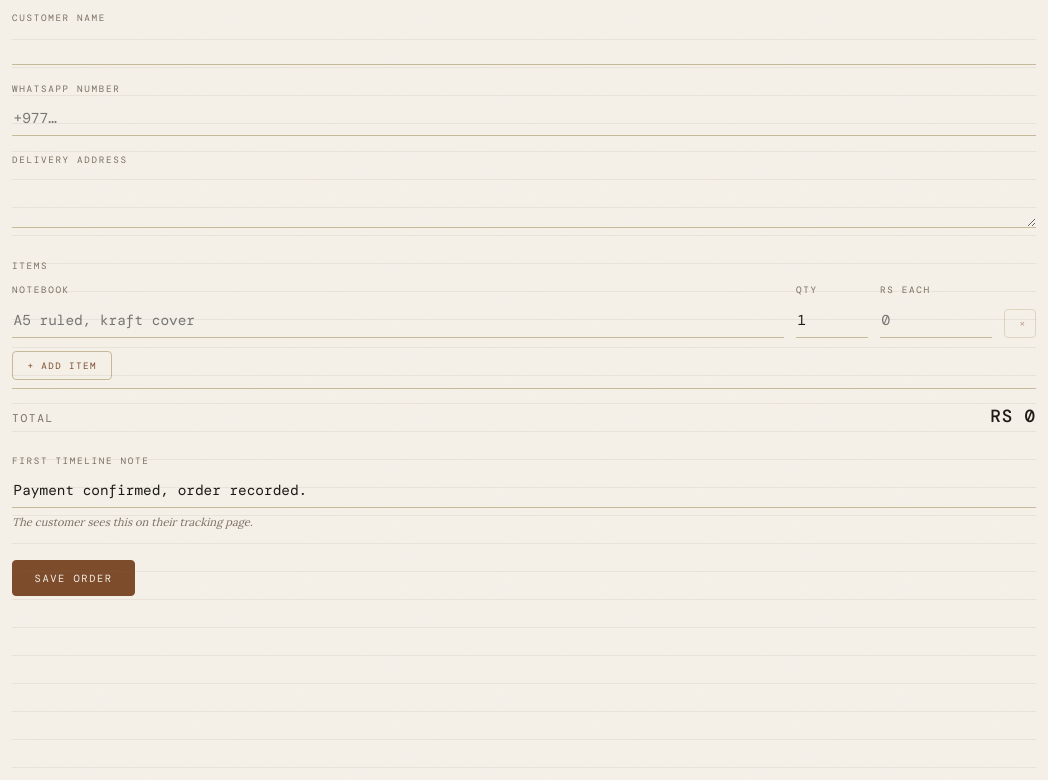
Test: NewOrderForm › sums across several rows
Step 1. Click the button "+ Add item" → point(62, 366), box [12,351,112,380]
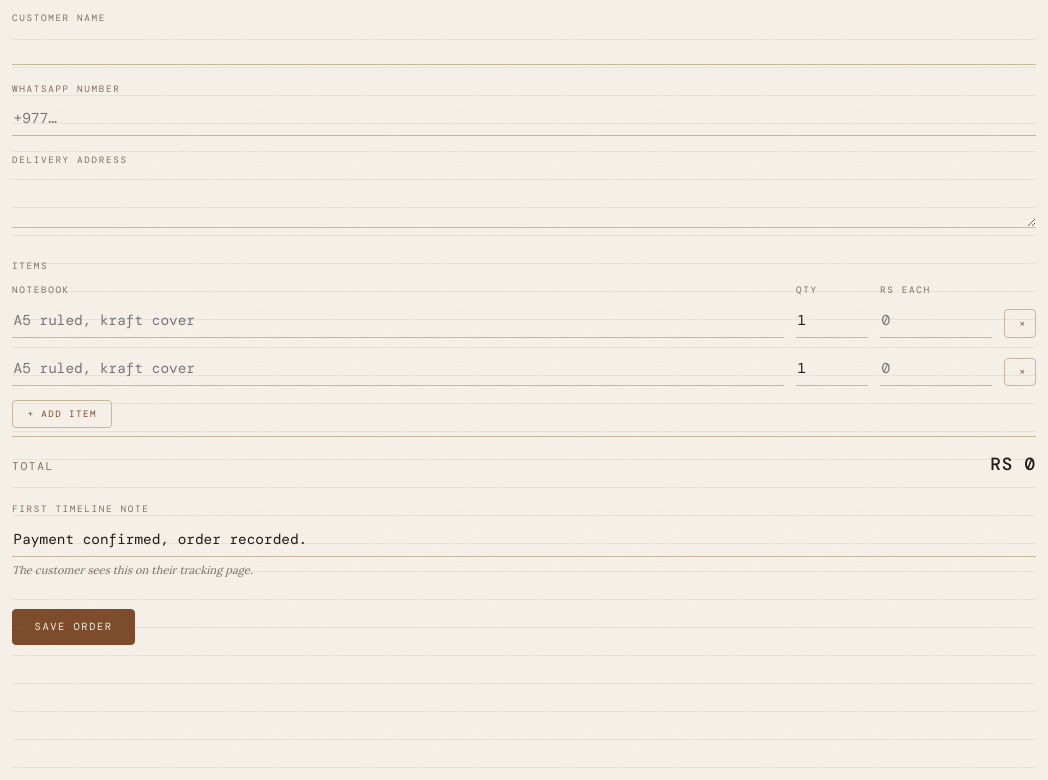
Step 2. Type "650" into the field with placeholder "0" below "Rs each" → point(936, 320), box [880,303,992,338]
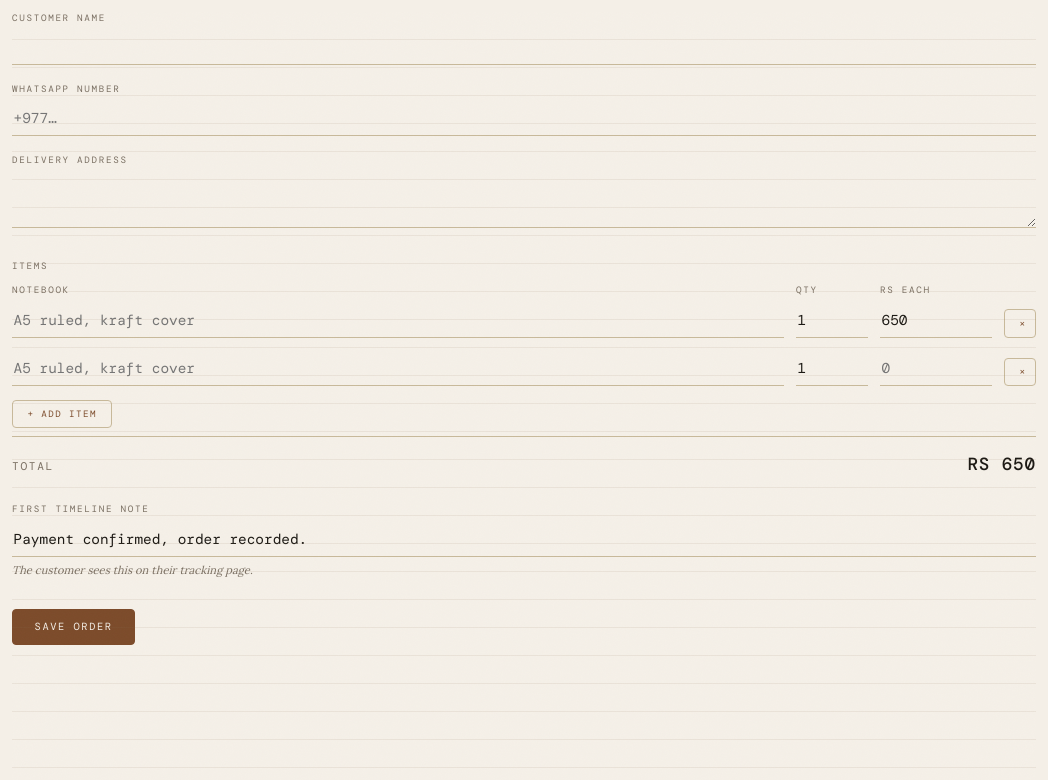
Step 3. Type "550" into the field with placeholder "0" → point(936, 369), box [880,351,992,386]
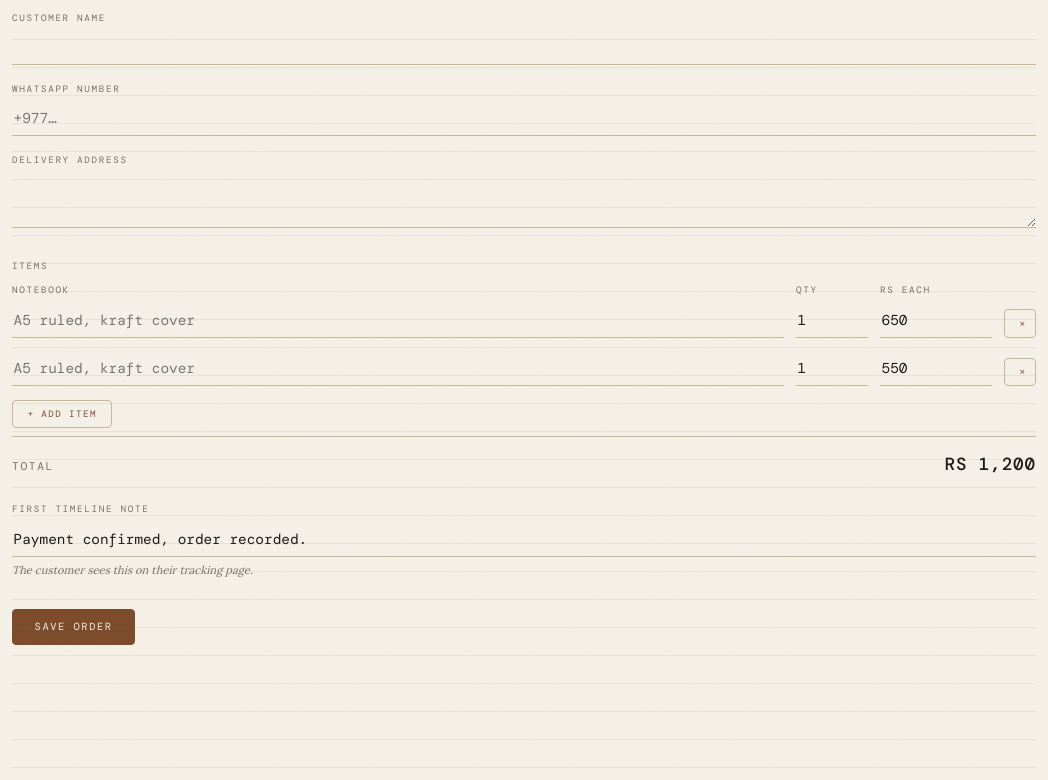
Expected: the text "Rs 1,200" is shown, [944,453,1036,475]
